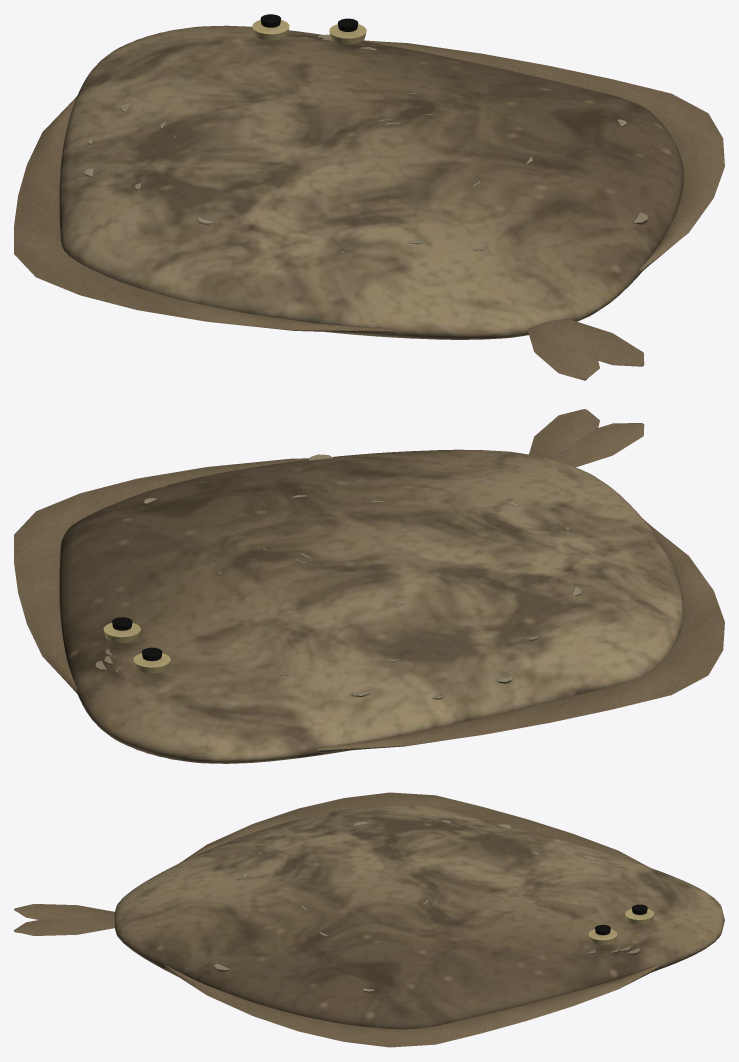
Rendered from fish_kalkan.glb.
The picture shows the model from 3 angles, top to bottom: view 1: azimuth 30°, elevation 25°; view 2: azimuth 150°, elevation 25°; view 3: azimuth 270°, elevation 25°; orthographic projection. The views are drawn at different scales.
Visible parts, largest first — view 1: fish_kalkan; view 2: fish_kalkan; view 3: fish_kalkan.
Part boxes in pixels (x1,y1,x2,y2): fish_kalkan: [14, 14, 724, 380]; fish_kalkan: [14, 409, 724, 763]; fish_kalkan: [14, 792, 724, 1047].
Bounding box in the file's own units: 0.4527 × 0.0589 × 0.5333.
Materials: 1 (1 with a texture image).
